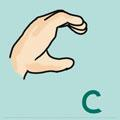C: (8, 8, 90, 82)
